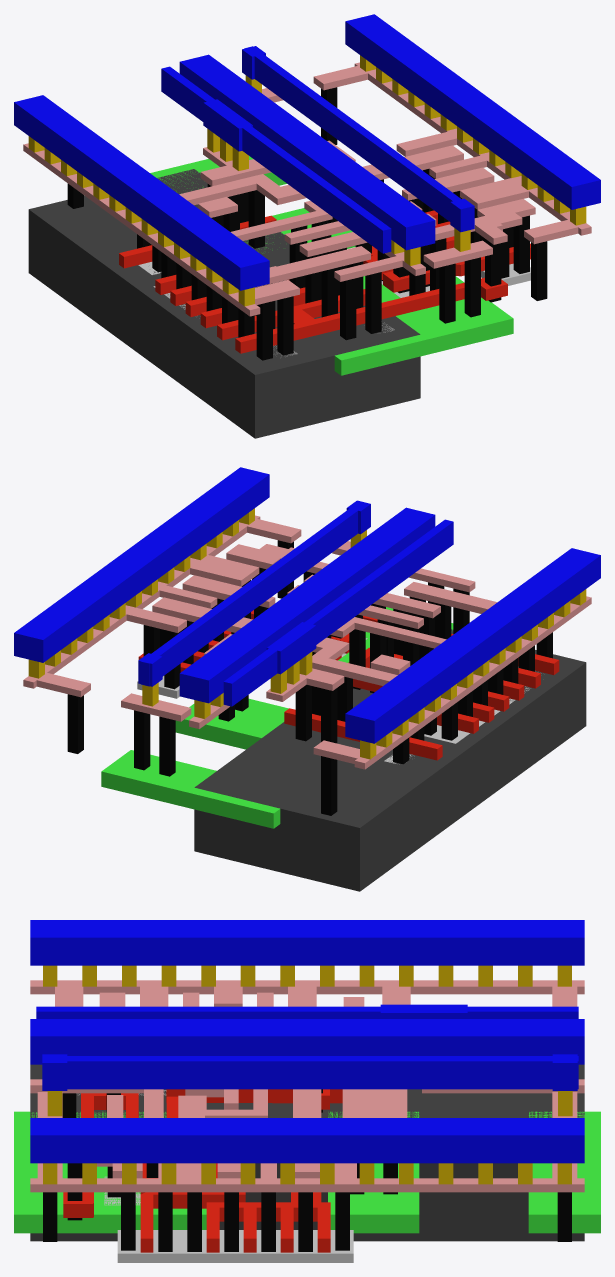
File: sky130_fd_sc_hd__lpflow_lsbuf_lh_hl_isowell_tap_2.obj
3 views of the same model, one above another, from view 1: azimuth 30°, elevation 25°; view 2: azimuth 150°, elevation 25°; view 3: azimuth 270°, elevation 25° (orthographic). The views are drawn at different scales.
Parts seen in each view (by area): view 1: metal1, subs, li, licon, poly, nwell, mcon, diff; view 2: metal1, subs, li, licon, nwell, mcon, poly, diff; view 3: metal1, li, subs, nwell, mcon, licon, poly, diff.
Boxes of the visible parts, x1,y1,x2,y2 form: metal1: [14, 14, 600, 290]; subs: [28, 169, 420, 438]; li: [23, 62, 591, 316]; licon: [67, 87, 547, 360]; poly: [119, 210, 530, 353]; nwell: [150, 156, 513, 375]; mcon: [28, 55, 586, 306]; diff: [138, 262, 530, 356]; metal1: [14, 467, 600, 743]; subs: [194, 629, 586, 891]; li: [23, 515, 591, 769]; licon: [67, 540, 552, 815]; nwell: [101, 607, 453, 828]; mcon: [28, 508, 586, 759]; poly: [138, 610, 559, 760]; diff: [137, 667, 541, 764]; metal1: [30, 920, 584, 1163]; li: [30, 980, 584, 1192]; subs: [30, 1064, 584, 1241]; nwell: [14, 1111, 600, 1233]; mcon: [43, 965, 572, 1184]; licon: [43, 1089, 571, 1251]; poly: [63, 1089, 342, 1252]; diff: [78, 1090, 353, 1262].
Bounding box in the file's own units: 5.92 × 2.74 × 6.82.
